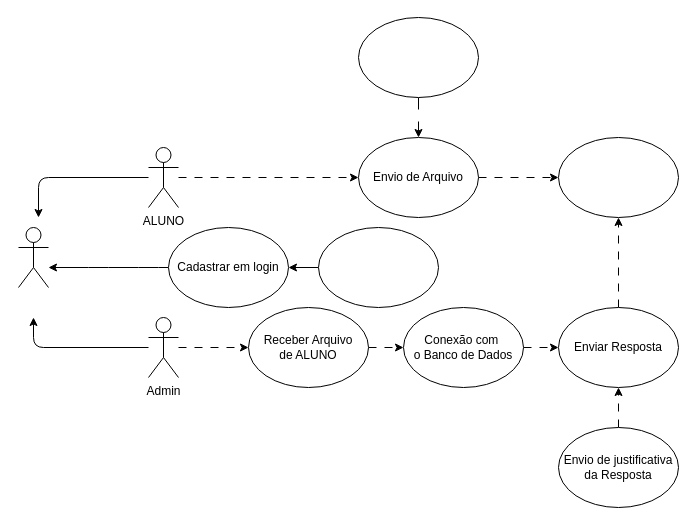
This 696x525 diagram has some shape labels left out. Each missing label, with the centre of its shape:
Conexão com a internt: the point at 378,267
Envio de justificativa escrita: the point at 418,57
Receber resposta do Admin: the point at 618,177
USER: the point at 33,257
